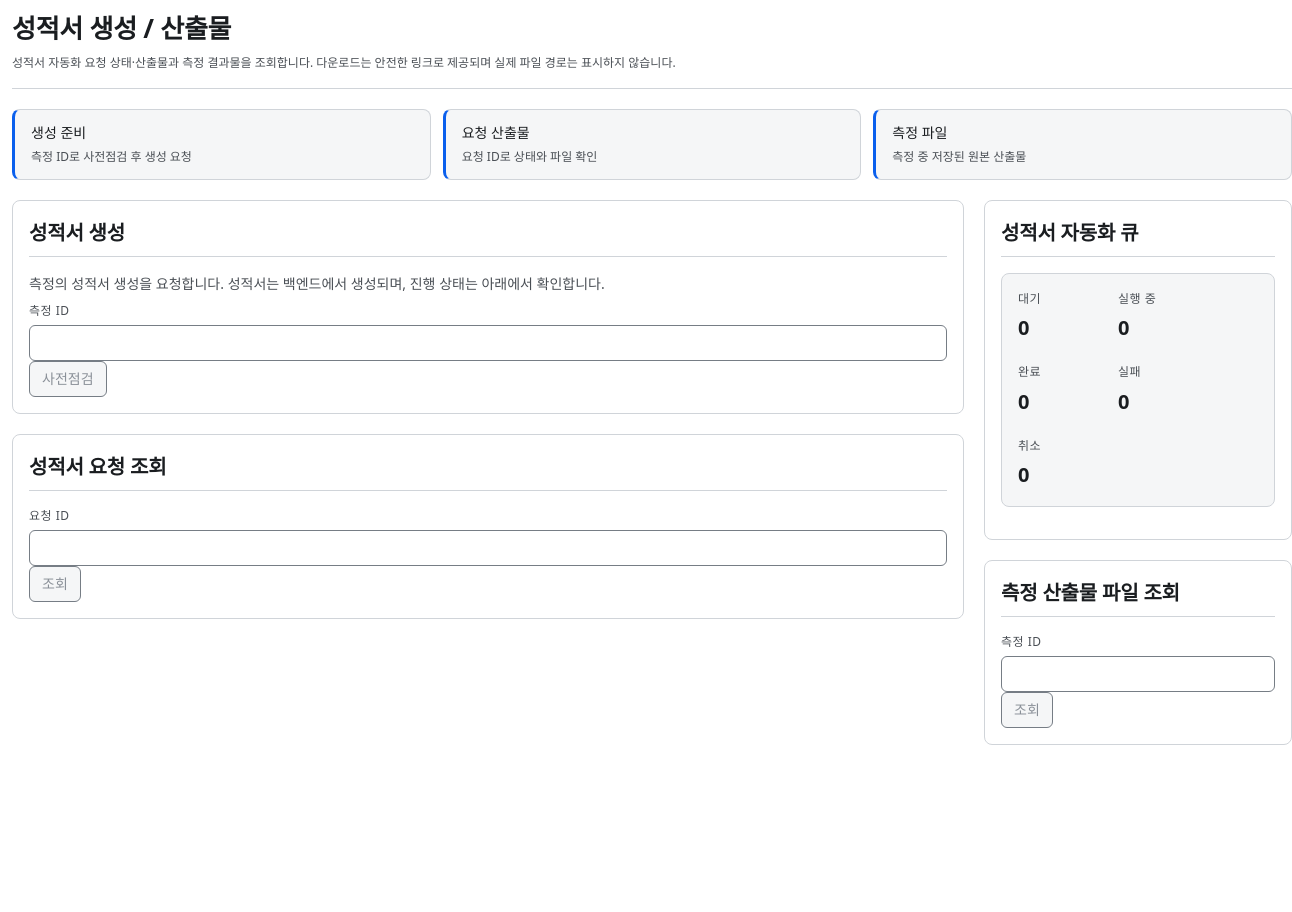
Test: ReportsRoute submit report (Phase 5) › still surfaces the generate button when preflight itself fails
Type "5" into the field with test id "submit-session-input" at (488, 343), box left=29, top=325, right=947, bottom=361
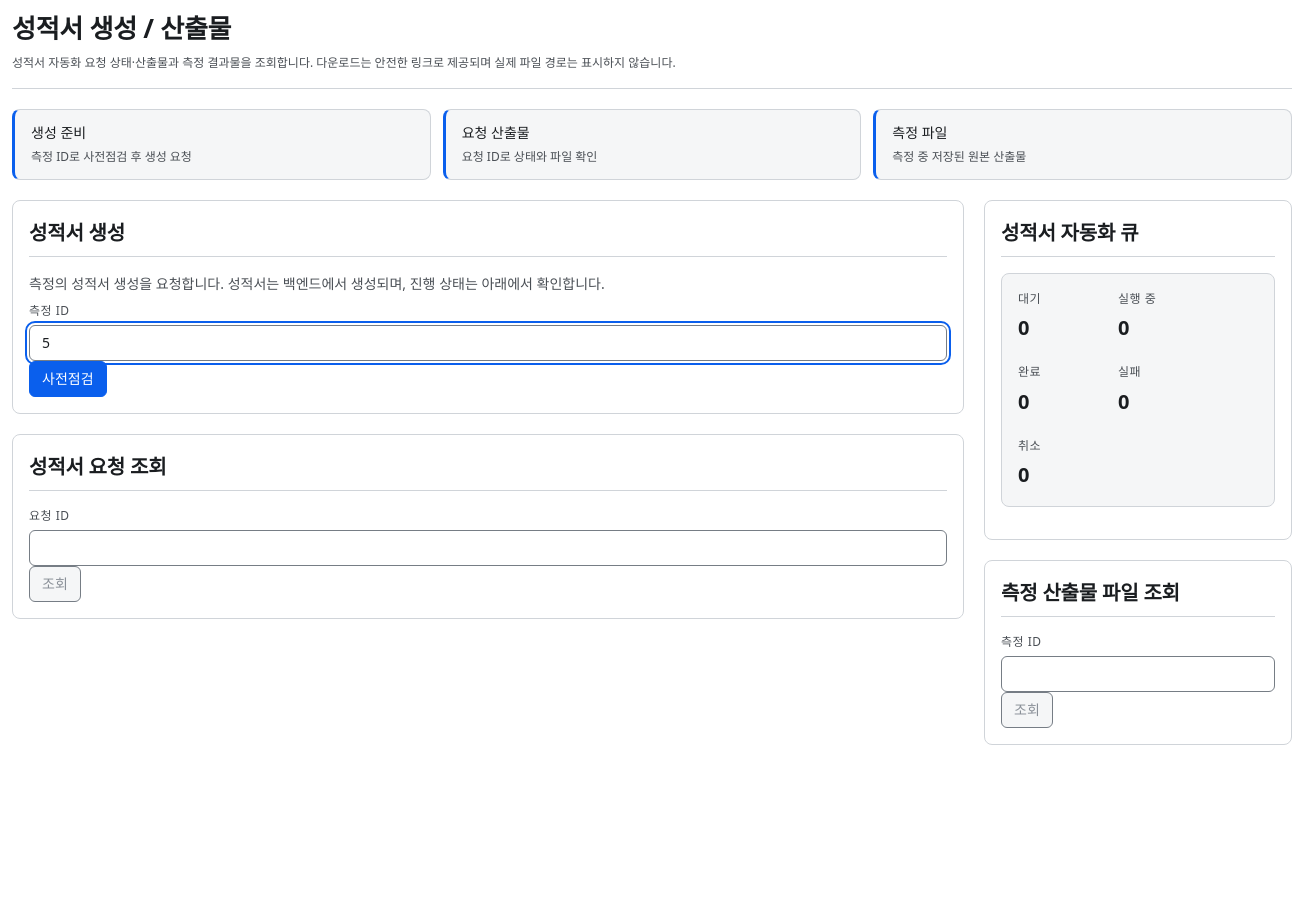
Click the button with test id "report-preflight-check" at (68, 379), box left=29, top=361, right=106, bottom=397
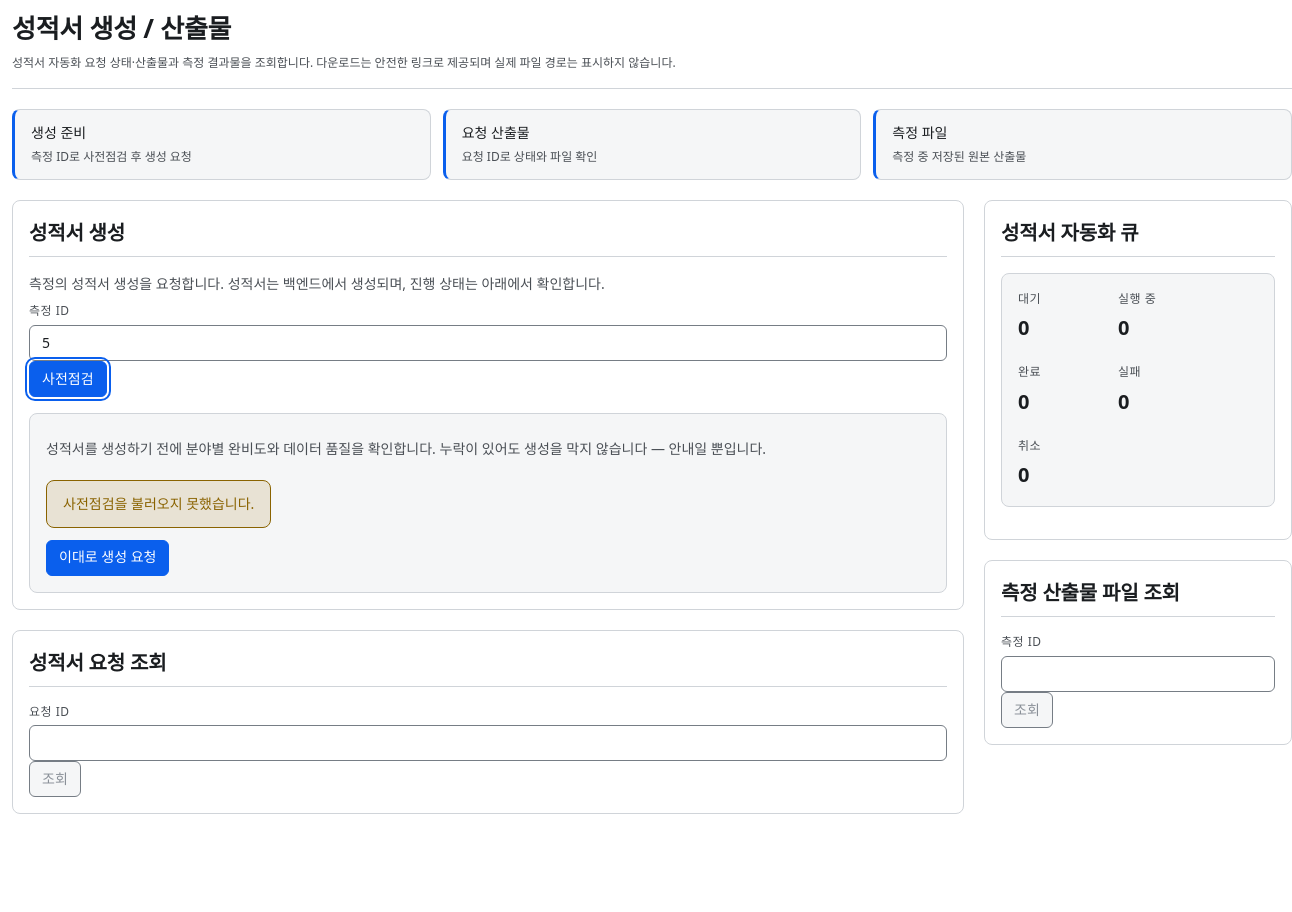
Check: the message "사전점검을 불러오지 못했습니다." is shown, box left=46, top=480, right=271, bottom=528
Check: the button with test id "report-submit" is enabled, box left=46, top=540, right=170, bottom=576
